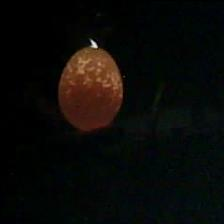infertile: (56, 43, 124, 130)
